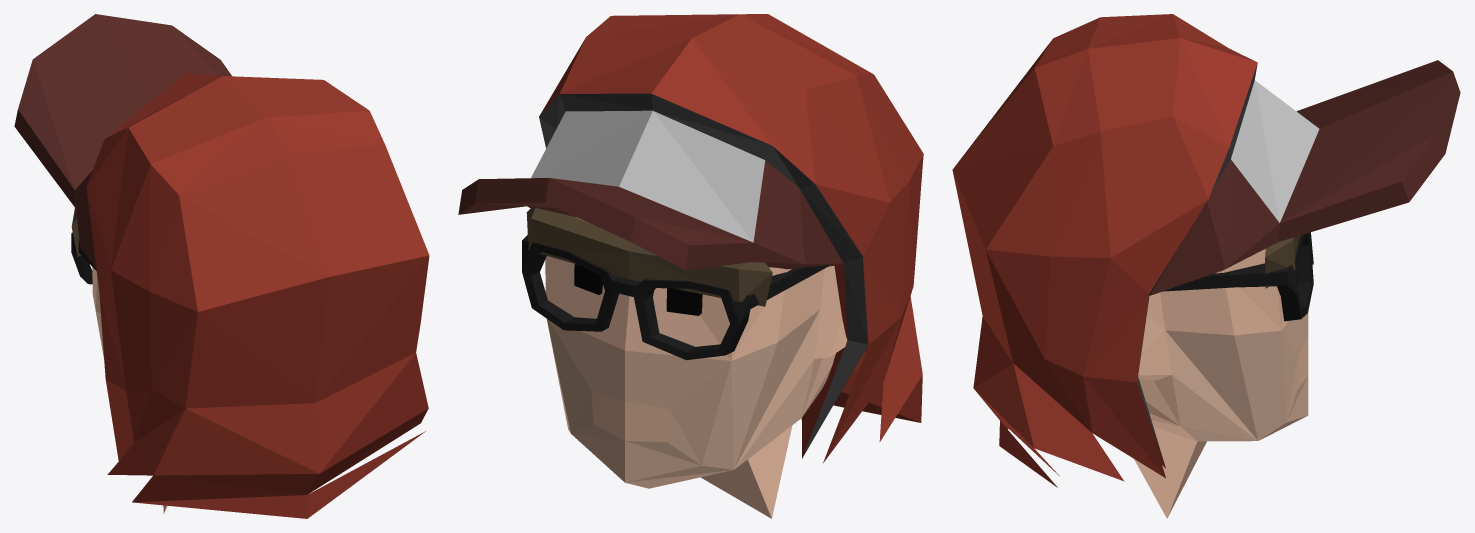
Rendered from Head.obj.
3 views of the same model, side by side, from view 1: azimuth 30°, elevation 25°; view 2: azimuth 150°, elevation 25°; view 3: azimuth 270°, elevation 25° (orthographic). The views are drawn at different scales.
Size of the model in its own units: 0.2947 by 0.3976 by 0.4097.
1 material, 1 textured.
